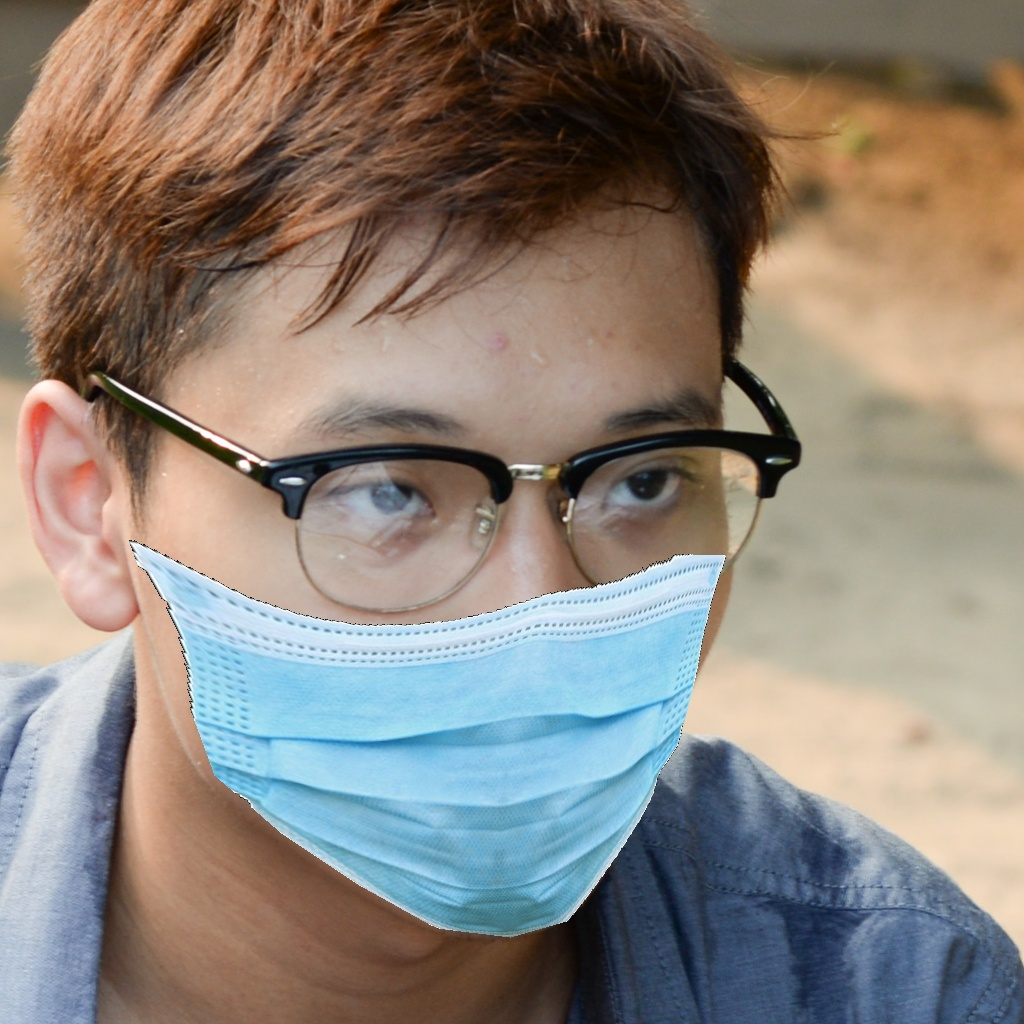with_mask: (197, 380, 747, 945)
